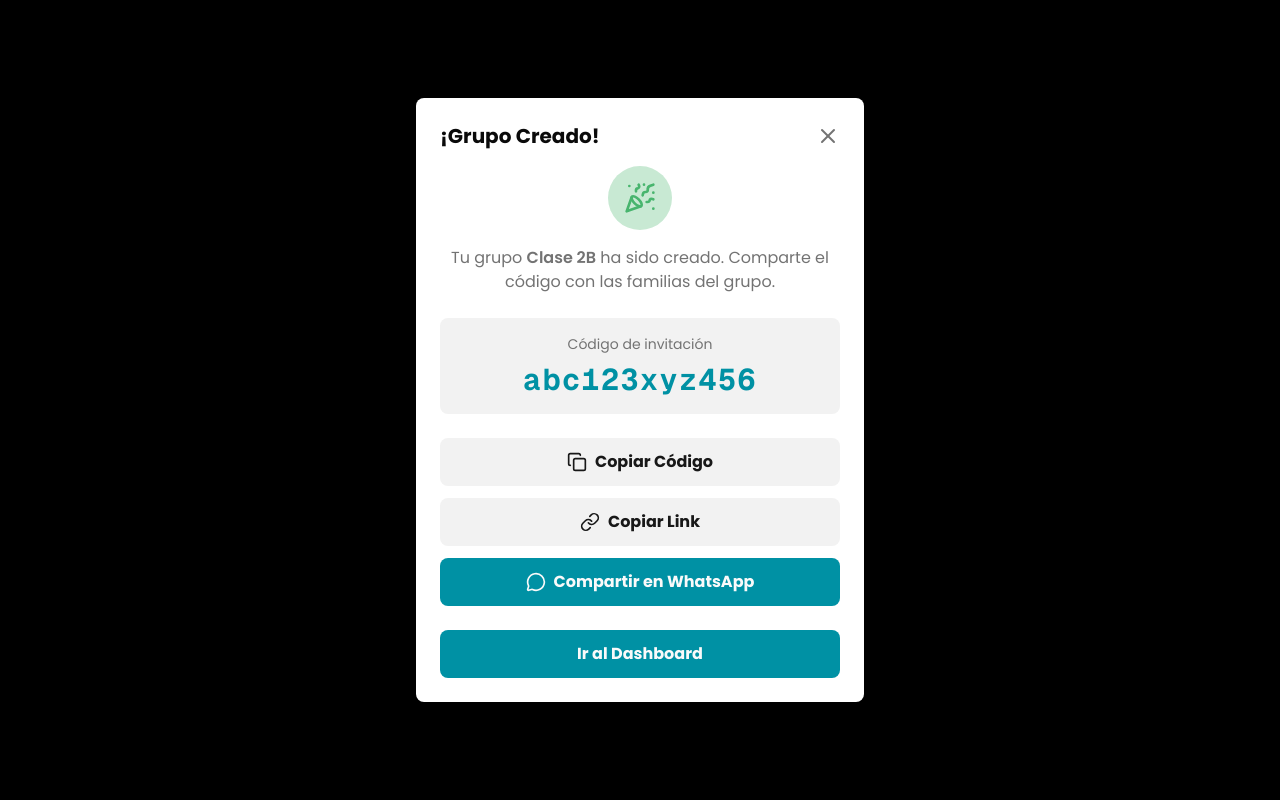
it: InviteCodeModal › copia el link al portapapeles
Click the button "Copiar Link": (640, 522) x1=440 y1=498 x2=840 y2=546
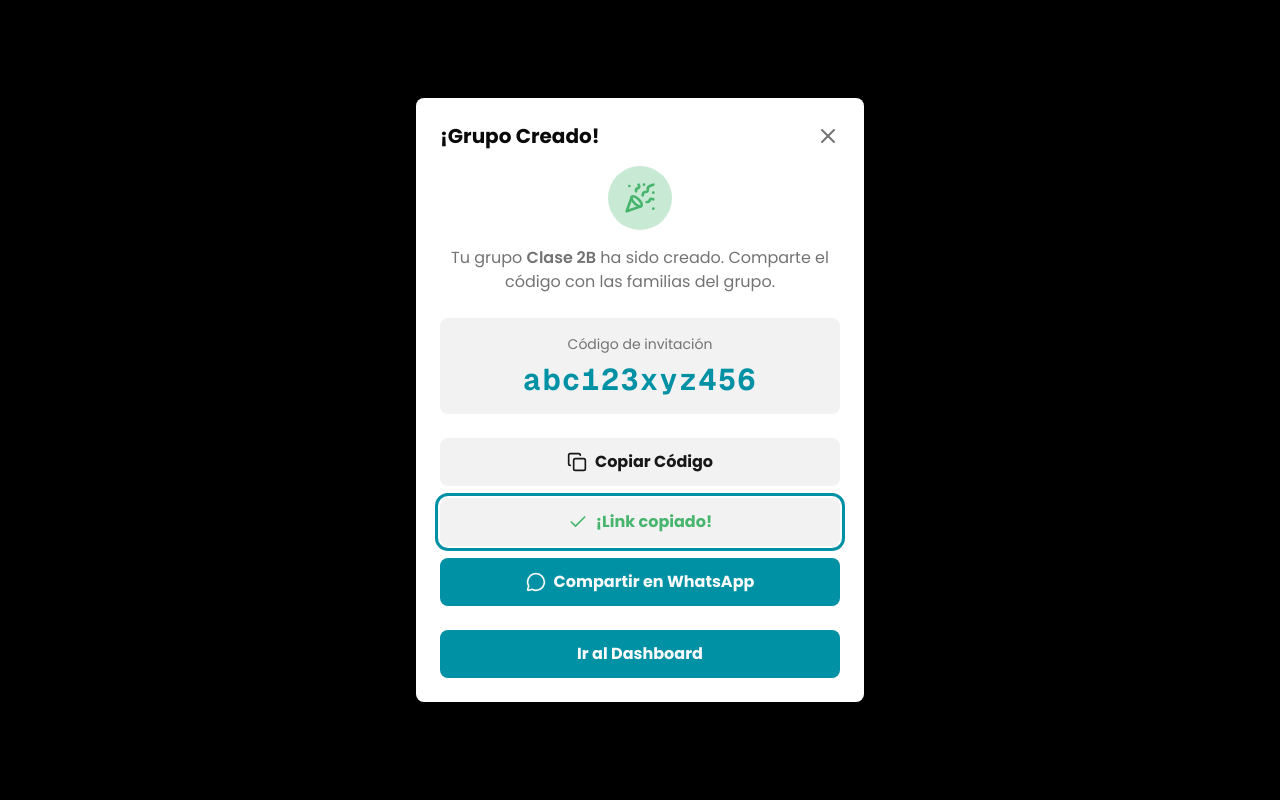
Now the text "¡Link copiado!" is shown, box x1=596 y1=510 x2=712 y2=534
